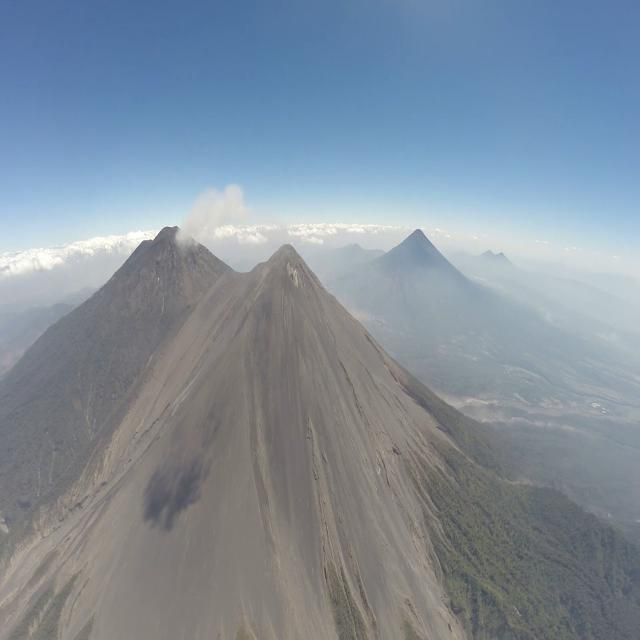Plume: (180, 178, 259, 256)
Summit: (250, 241, 322, 292)
